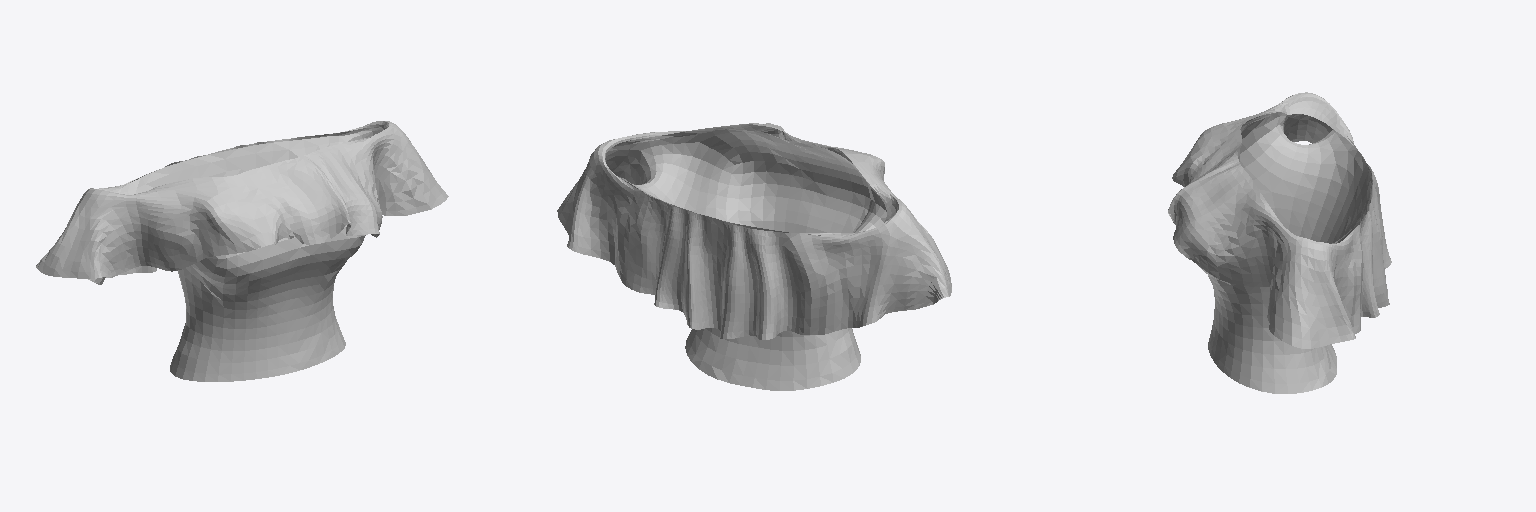
Rendered from 3dshirt.obj.
3 renders of one model, left to right at view 1: azimuth 30°, elevation 25°; view 2: azimuth 150°, elevation 25°; view 3: azimuth 270°, elevation 25°, orthographic.
Visible parts, largest first — view 1: OffTheShoulderShirt; view 2: OffTheShoulderShirt; view 3: OffTheShoulderShirt.
Part boxes in pixels (x1,y1,x2,y2): OffTheShoulderShirt: (36, 121, 448, 381); OffTheShoulderShirt: (557, 123, 951, 390); OffTheShoulderShirt: (1168, 92, 1391, 393).
Size of the model in its own units: 6.87 by 3.57 by 3.33.